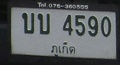txt21: (36, 13, 51, 35), (20, 12, 34, 35)
